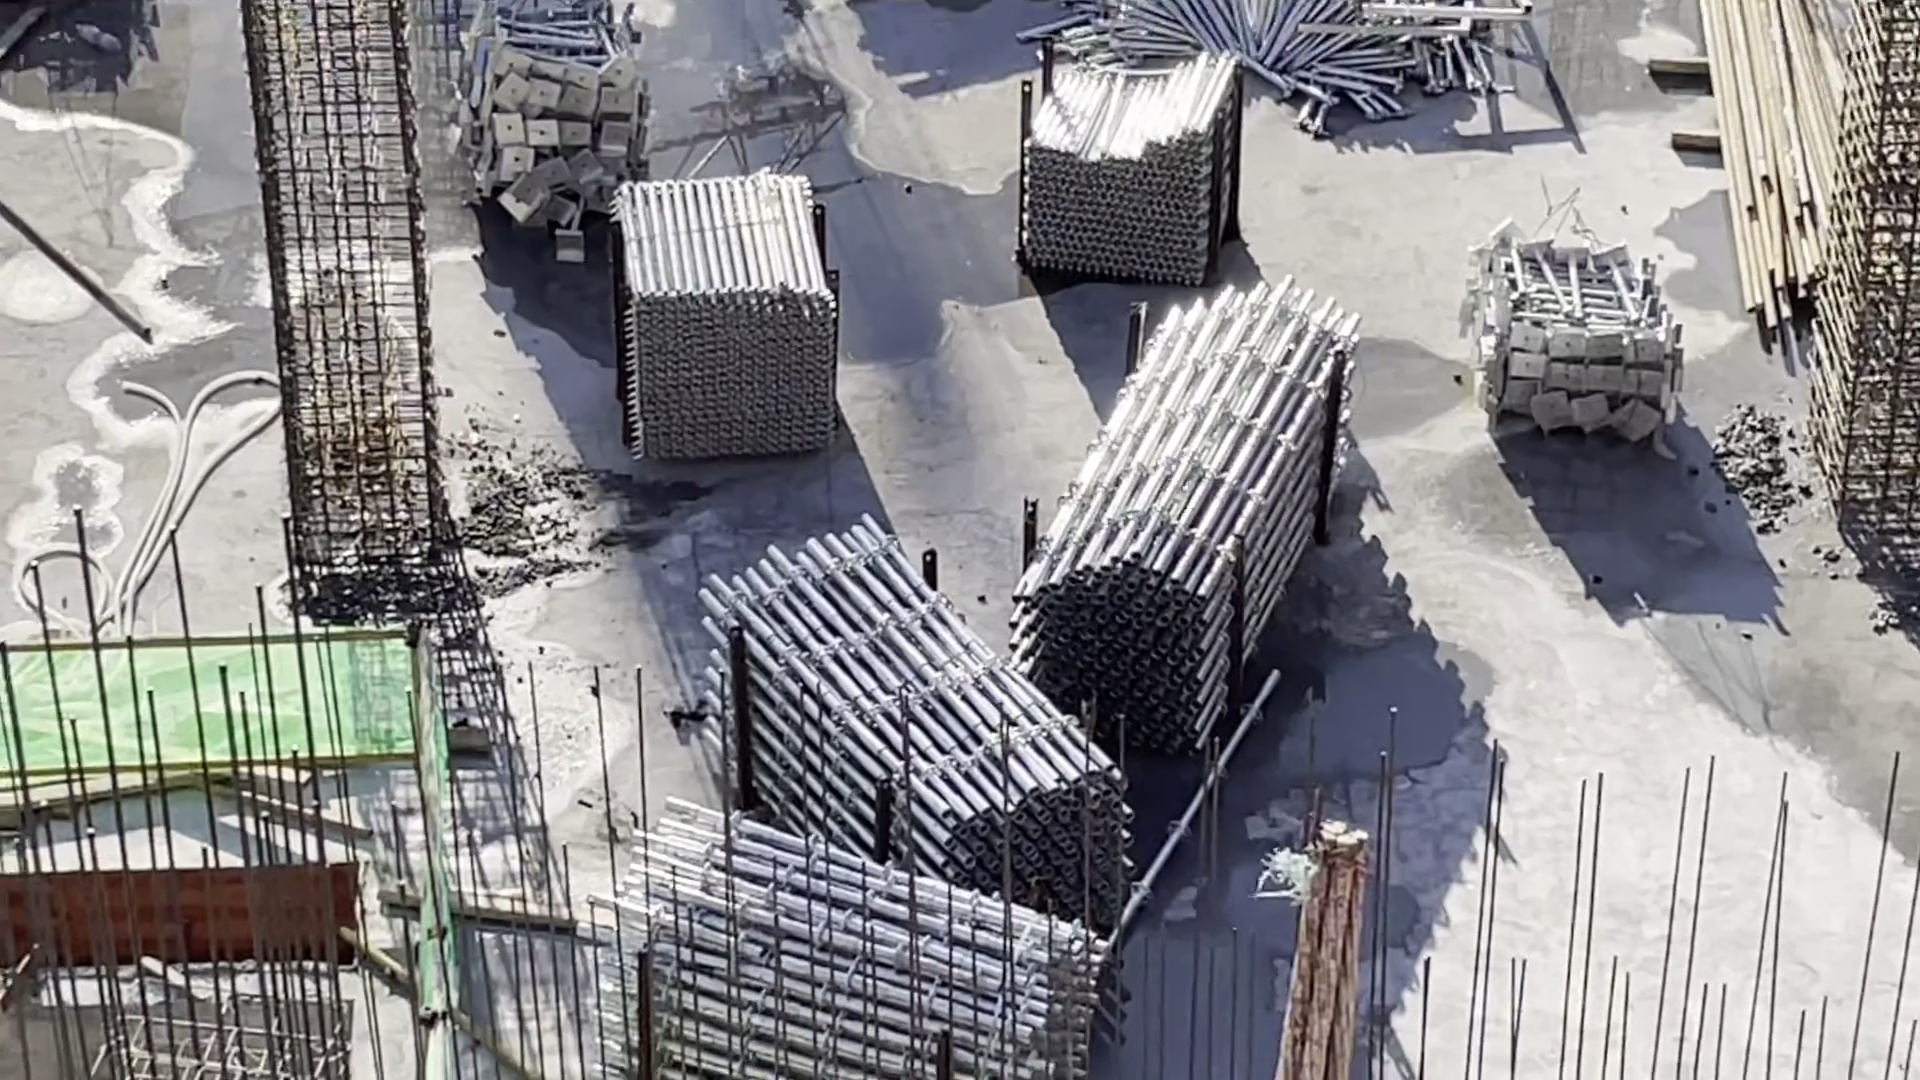scaffold: (699, 524, 1126, 963), (587, 800, 1155, 1080), (1033, 309, 1367, 724), (616, 166, 849, 476), (1068, 1, 1501, 116), (1468, 233, 1680, 447), (1035, 73, 1249, 276), (465, 15, 657, 229)
